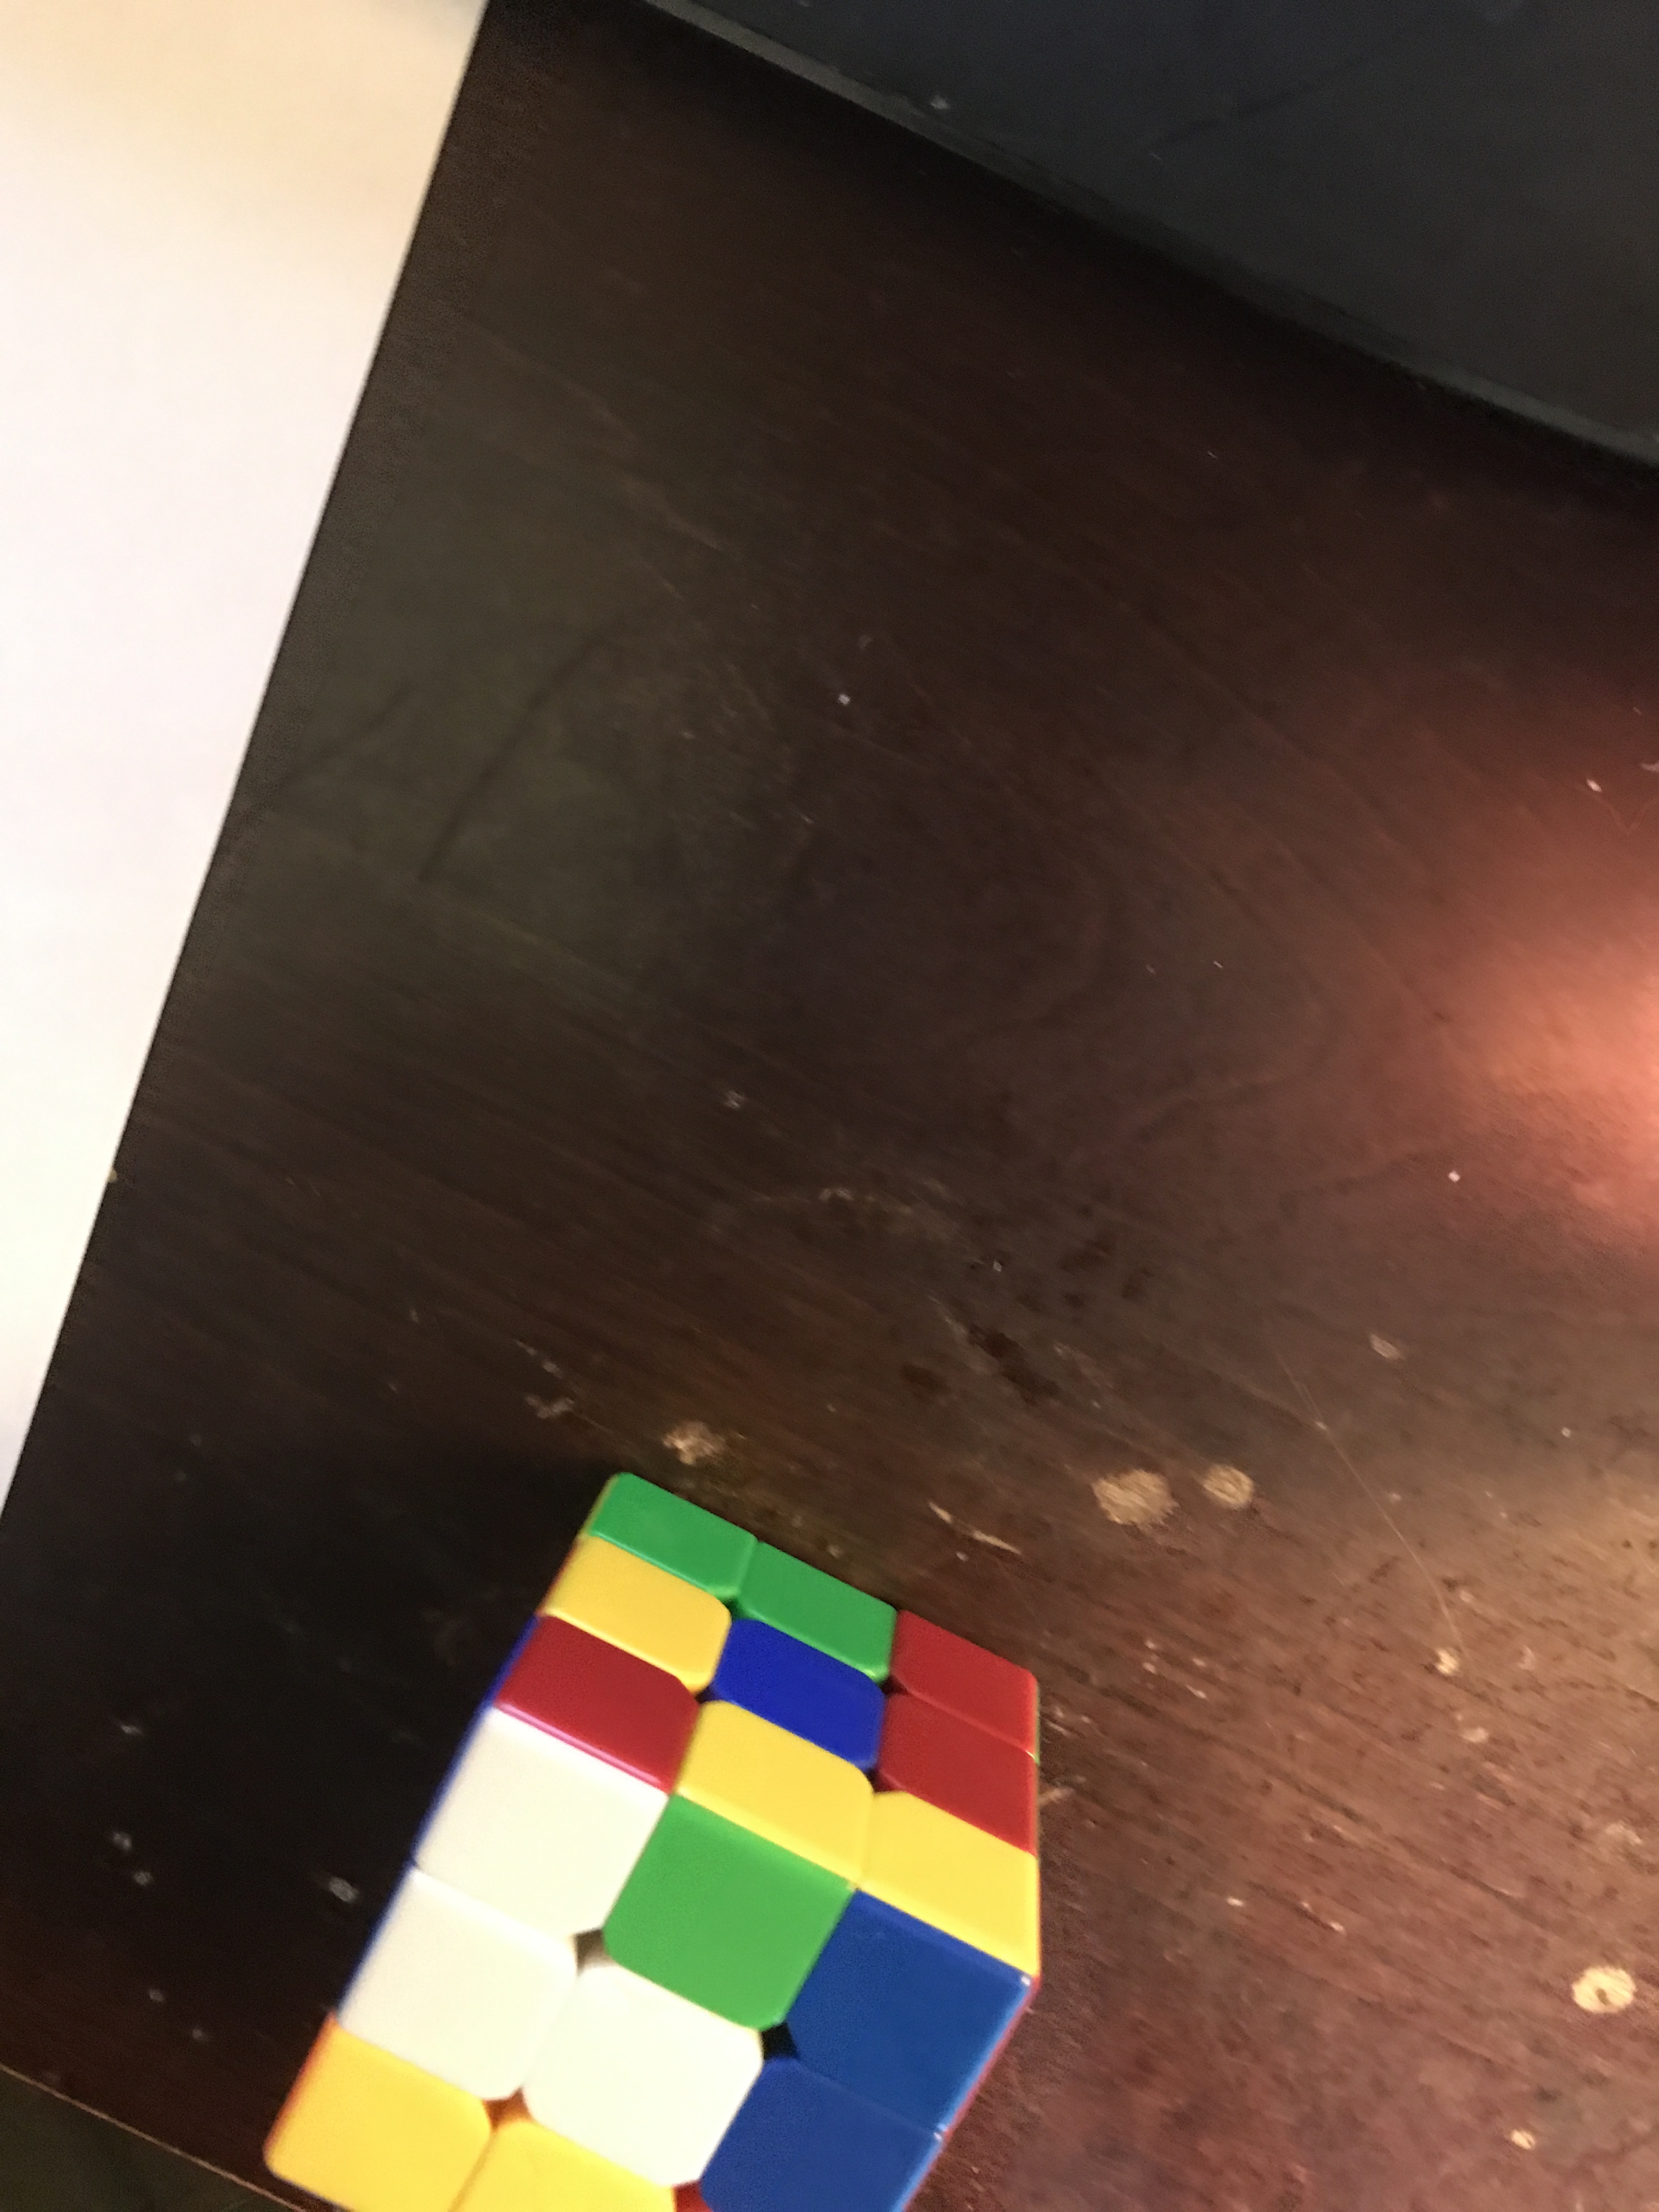rubiks: (239, 1463, 1058, 2212)
